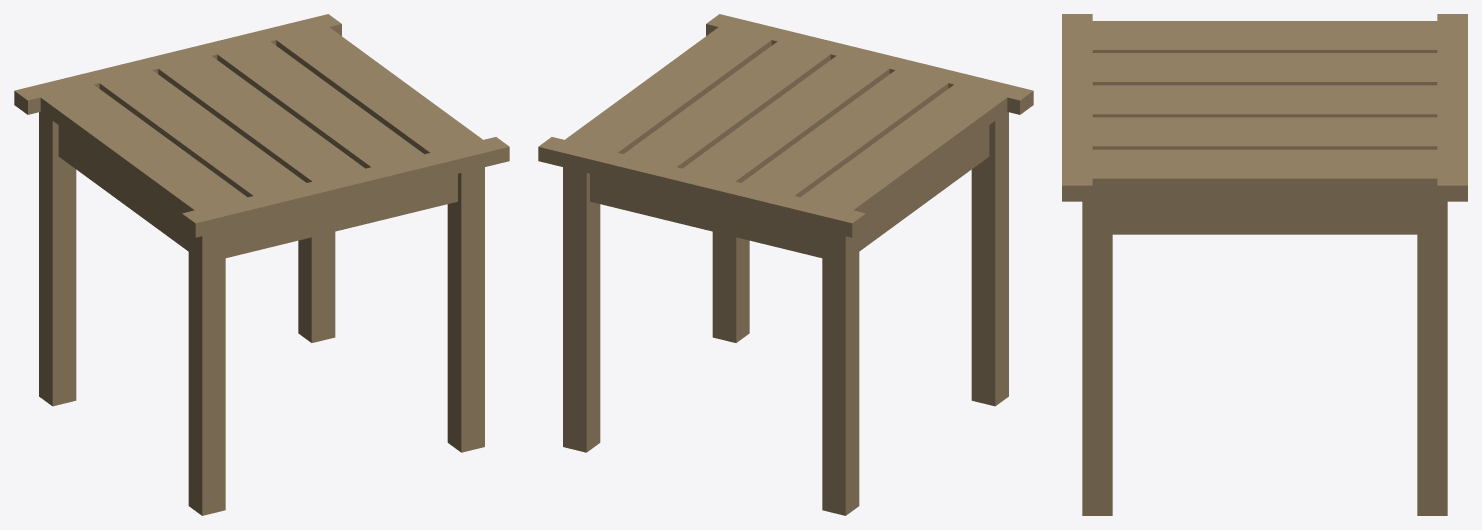
Rendered from SM_Prop_cafe_table_1_LOD1.glb.
3 views of the same model, side by side, from view 1: azimuth 30°, elevation 25°; view 2: azimuth 150°, elevation 25°; view 3: azimuth 270°, elevation 25° (orthographic). The views are drawn at different scales.
Visible parts, largest first — view 1: SM_Prop_cafe_table_1_LOD1; view 2: SM_Prop_cafe_table_1_LOD1; view 3: SM_Prop_cafe_table_1_LOD1.
Part boxes in pixels (x1,y1,x2,y2): SM_Prop_cafe_table_1_LOD1: [14, 14, 509, 515]; SM_Prop_cafe_table_1_LOD1: [538, 14, 1033, 515]; SM_Prop_cafe_table_1_LOD1: [1062, 14, 1467, 515].
Bounding box in the file's own units: 0.8 × 0.7375 × 0.8.
